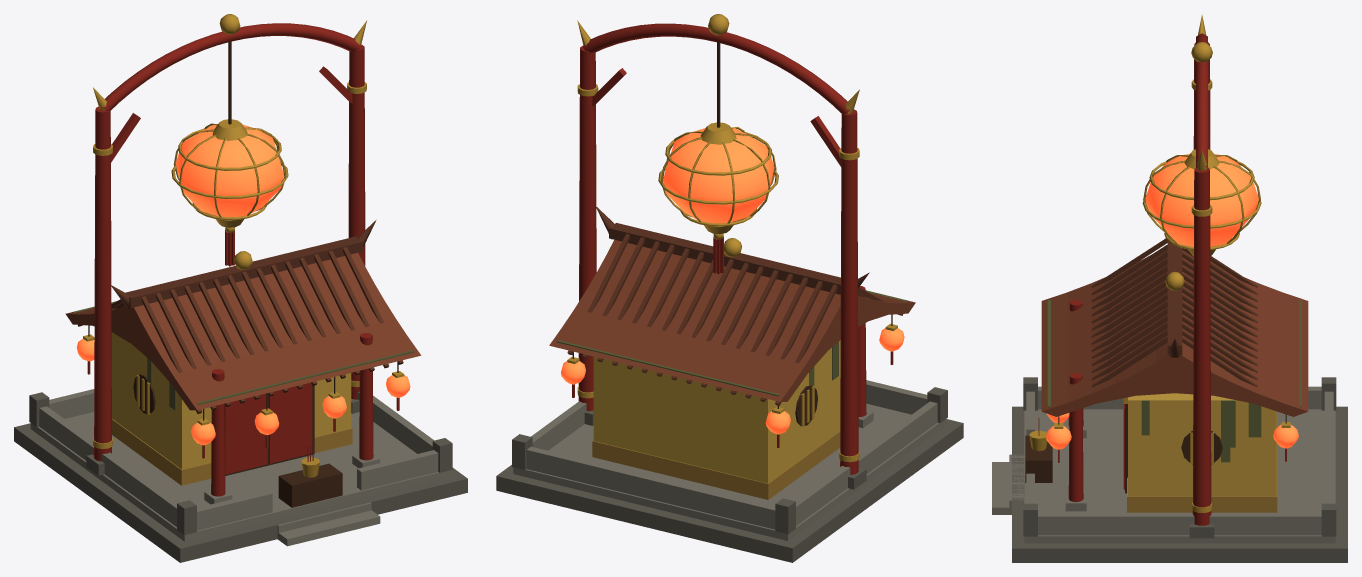
File: mother_lantern_shrine.glb
3 renders of one model, left to right at view 1: azimuth 30°, elevation 25°; view 2: azimuth 150°, elevation 25°; view 3: azimuth 270°, elevation 25°, orthographic. The views are drawn at different scales.
Visible parts, largest first — view 1: MotherLanternShrine_mat0, MotherLanternShrine_mat1; view 2: MotherLanternShrine_mat0, MotherLanternShrine_mat1; view 3: MotherLanternShrine_mat0, MotherLanternShrine_mat1.
Boxes of the visible parts, x1,y1,x2,y2 form: MotherLanternShrine_mat0: (14,14,467,562); MotherLanternShrine_mat1: (76,124,410,445); MotherLanternShrine_mat0: (496,14,963,562); MotherLanternShrine_mat1: (561,127,904,434); MotherLanternShrine_mat0: (992,14,1347,562); MotherLanternShrine_mat1: (1046,154,1298,449).
Size of the model in its own units: 6.8 by 10.03 by 7.2.
